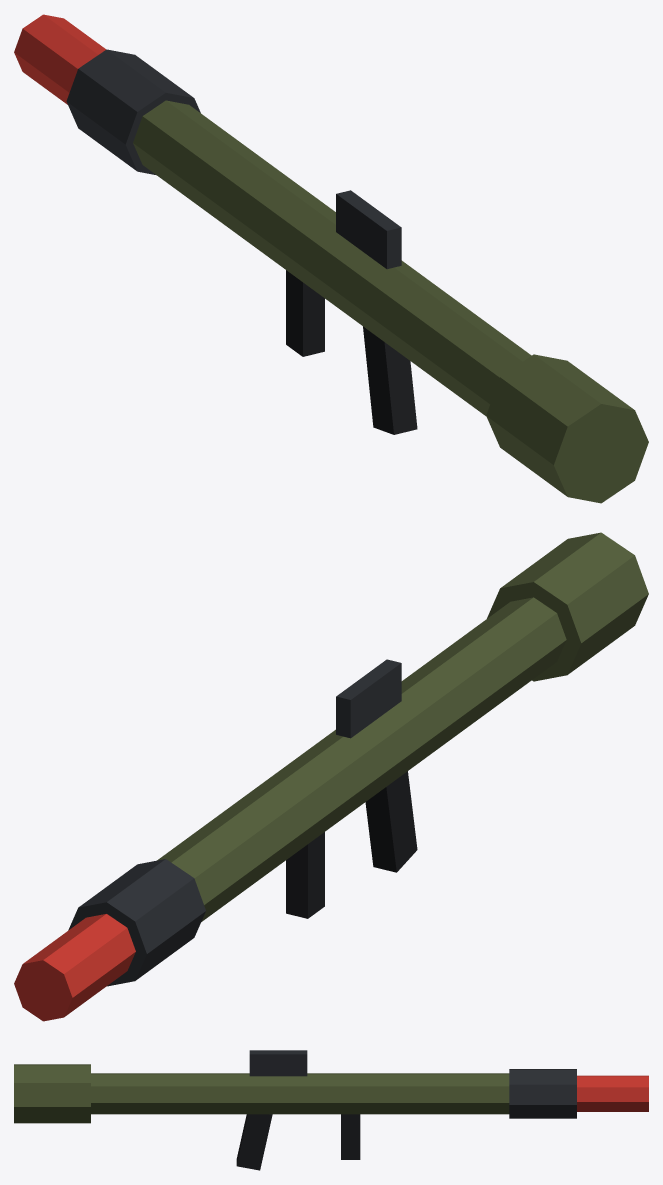
Rendered from rpg.glb.
3 renders of one model, top to bottom at view 1: azimuth 30°, elevation 25°; view 2: azimuth 150°, elevation 25°; view 3: azimuth 270°, elevation 25°, orthographic. The views are drawn at different scales.
Parts seen in each view (by area): view 1: rpg_Body; view 2: rpg_Body; view 3: rpg_Body.
Part boxes in pixels (<box>): rpg_Body: <box>14,14,648,503</box>; rpg_Body: <box>14,532,648,1021</box>; rpg_Body: <box>14,1050,648,1170</box>.
Bounding box in the file's own units: 0.13 × 0.2637 × 1.32.
